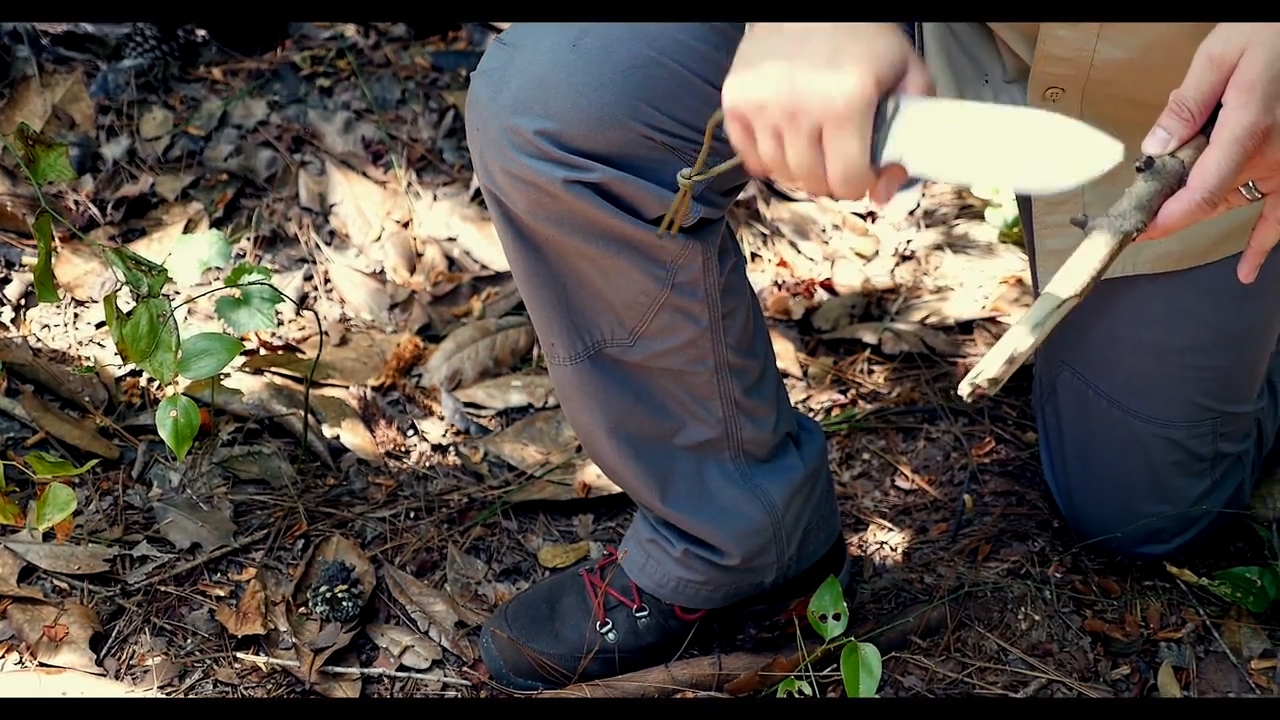knife: (717, 43, 1134, 203)
